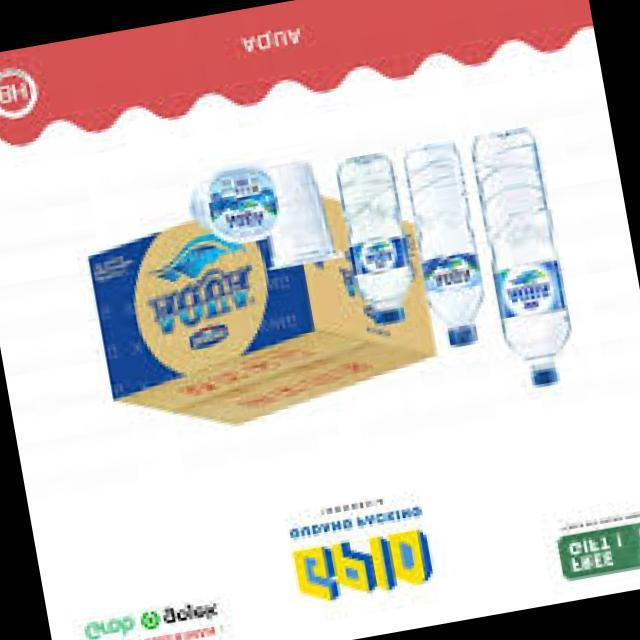good: (316, 126, 432, 338)
